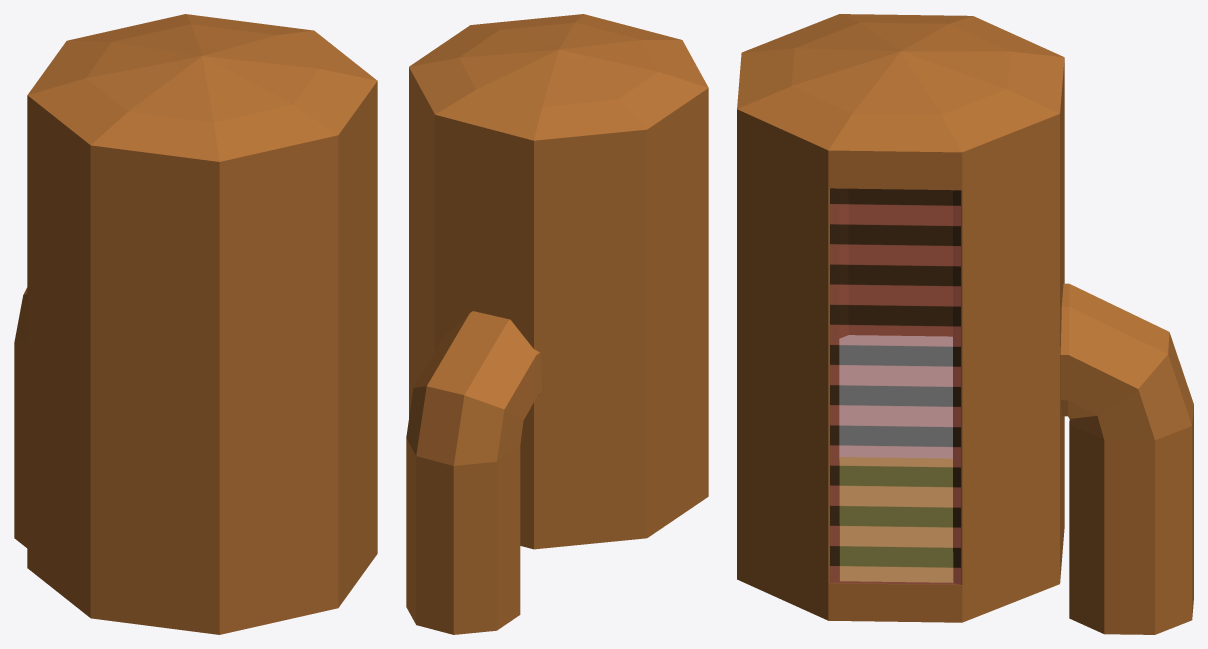
Rendered from VAT60.glb.
The picture shows the model from 3 angles, left to right: view 1: azimuth 30°, elevation 25°; view 2: azimuth 150°, elevation 25°; view 3: azimuth 270°, elevation 25°; orthographic projection. The views are drawn at different scales.
Parts seen in each view (by area): view 1: Cylinder, Cylinder.001; view 2: Cylinder, Cylinder.001; view 3: Cylinder, glass, Cylinder.001, liquidHeight.
Part boxes in pixels (box(x1,y1,x2,y2)): Cylinder: box(27, 14, 377, 634); Cylinder.001: box(14, 287, 27, 547); Cylinder: box(409, 14, 708, 549); Cylinder.001: box(406, 311, 541, 634); Cylinder: box(737, 14, 1064, 622); glass: box(830, 188, 960, 584); Cylinder.001: box(1060, 283, 1193, 634); liquidHeight: box(839, 335, 952, 582).
Bounding box in the file's own units: 1.82 × 3.44 × 2.54.
4 materials, 1 textured.
